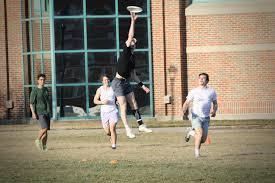disc: (126, 5, 143, 13)
